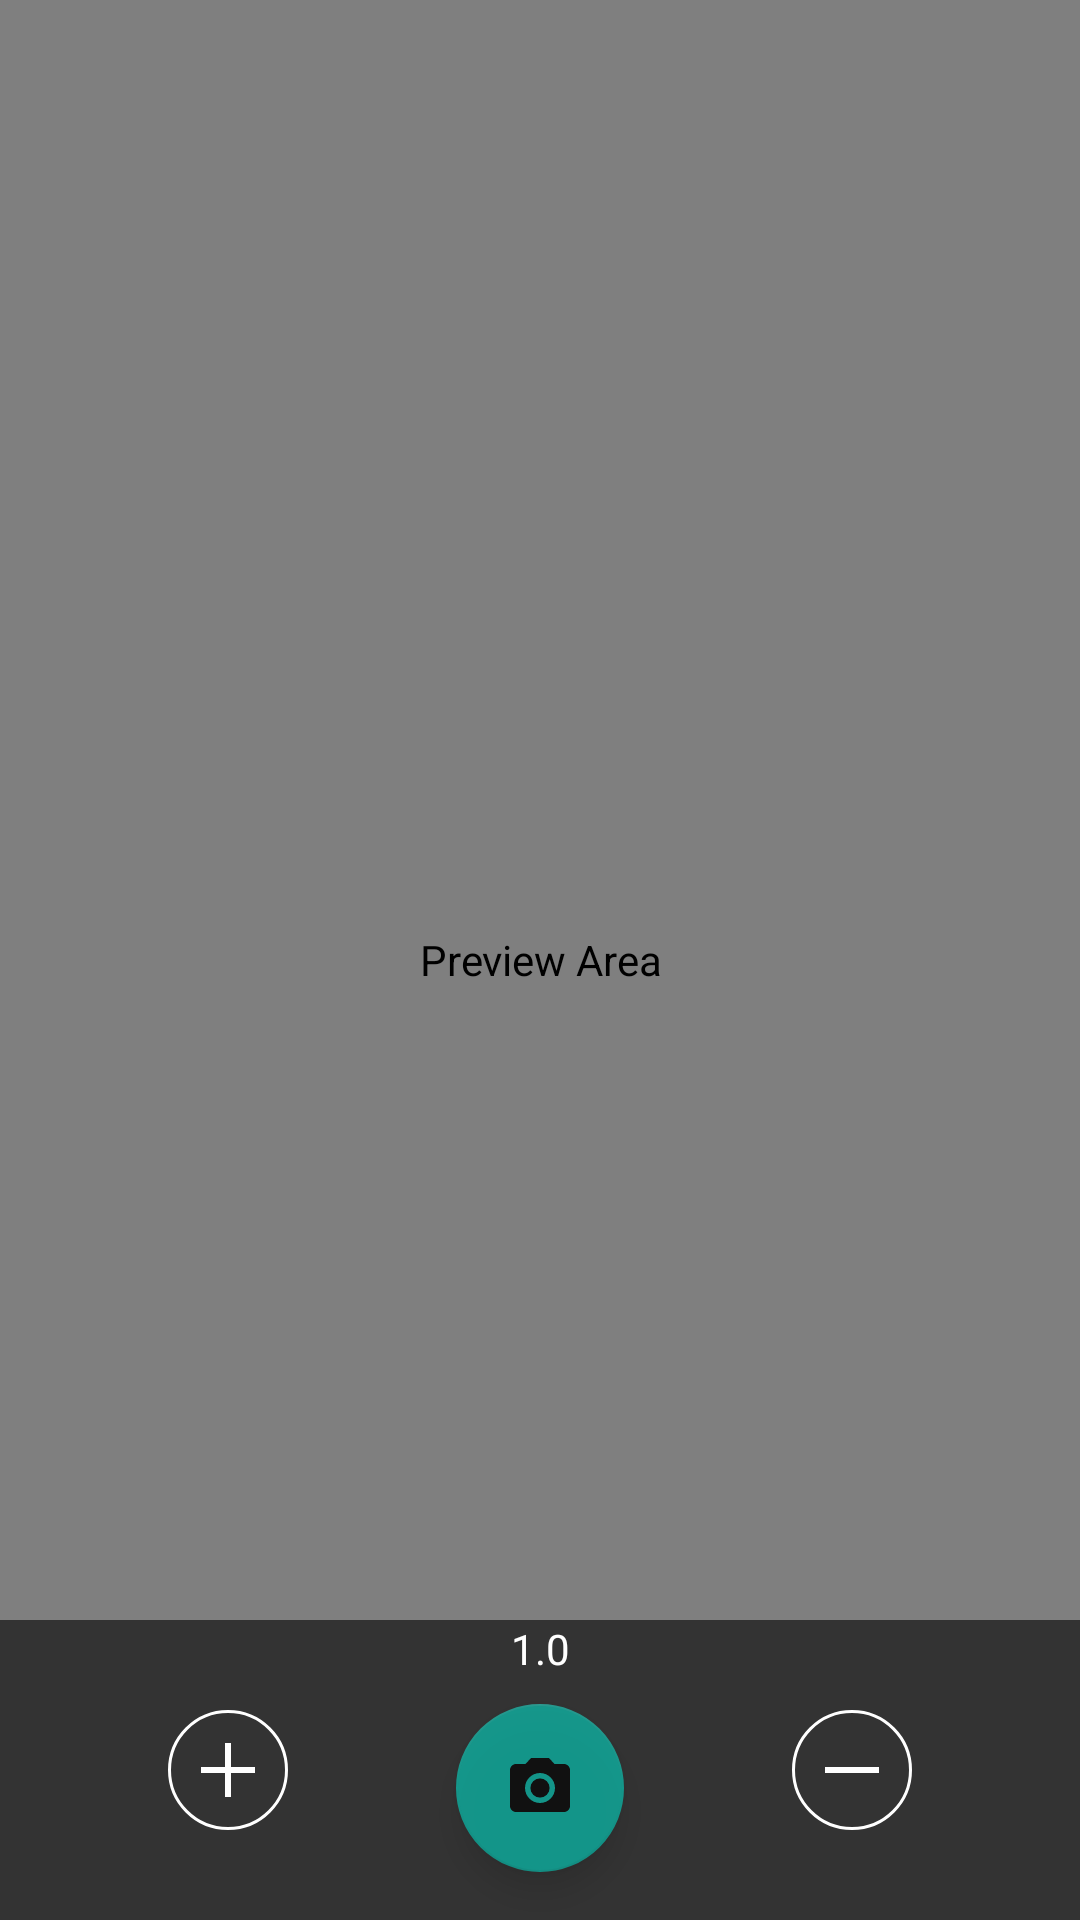

Screen size 1080×1920. Icon name, then its center in pixels as [x,y]:
camera: [540,1788]
minus: [852,1770]
plus: [228,1770]
